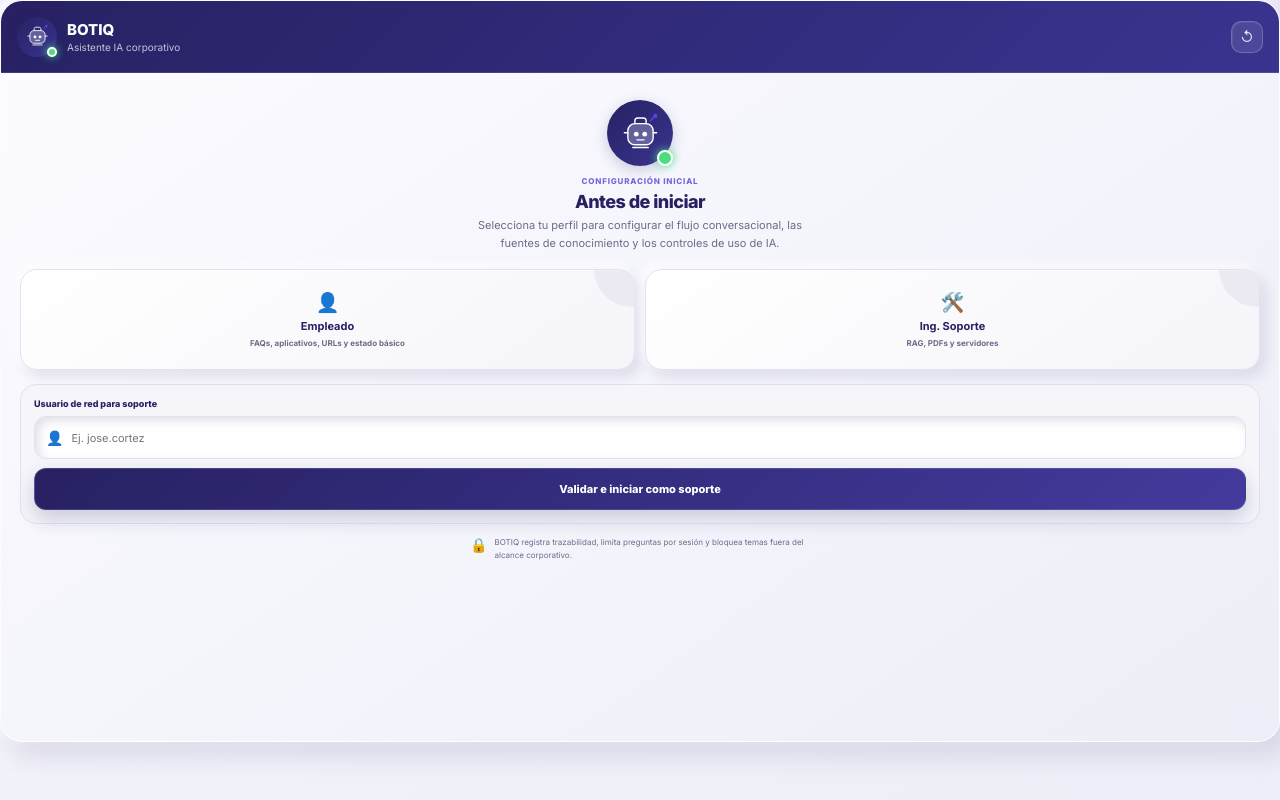
ChatWidget mejorado › valida que soporte tenga usuario de red
Click the button "Validar e iniciar como soporte".
click(640, 489)  # box [34,468,1246,510]
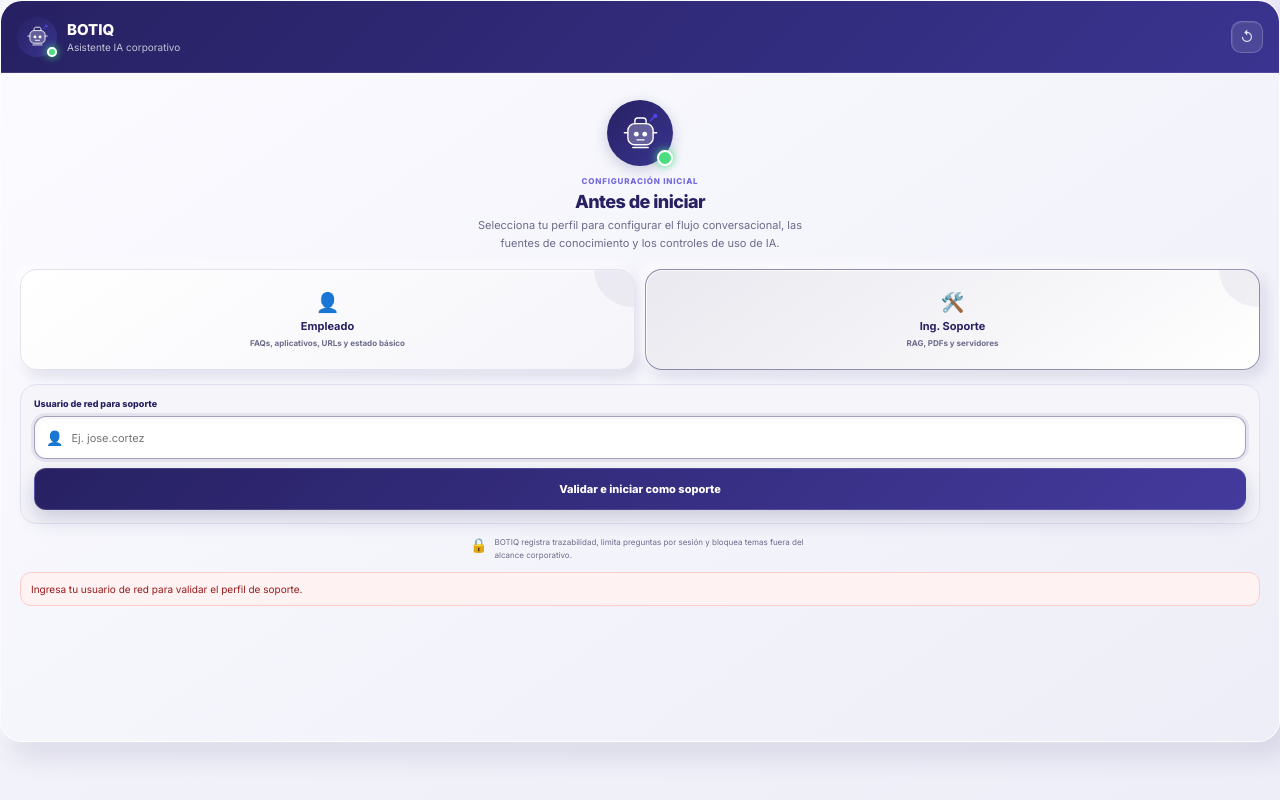
Check: the message shows "Ingresa tu usuario de red", box [31,583,302,595]
